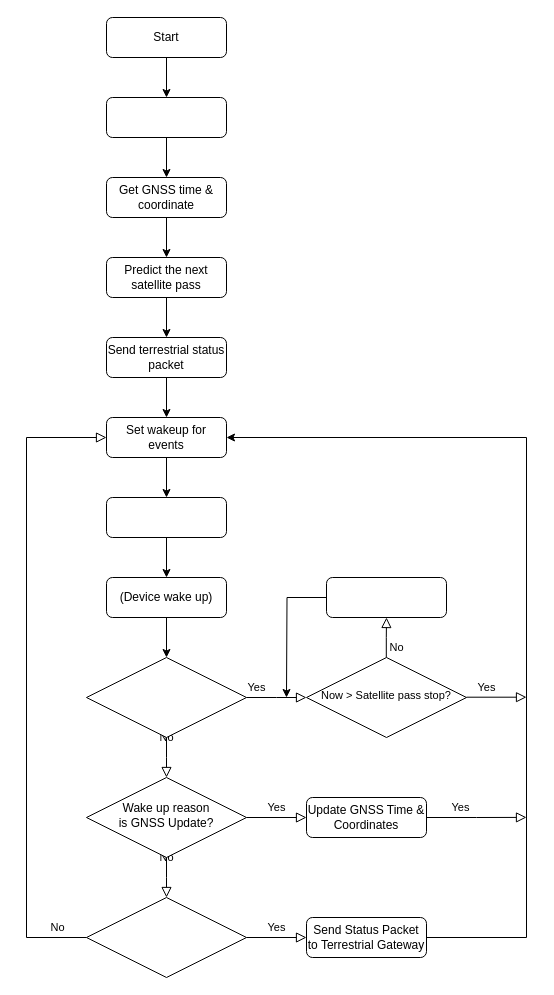
The diagram is 554 pixels wide and 995 high, and some of its shapes have lost their labels. Here are the shapes that lost their labels. From the top down, the box of each, then its label:
(106, 96, 226, 138): System Initialization
(106, 496, 226, 538): Set board sleep
(326, 576, 446, 618): Send Satellite packet
(86, 656, 246, 738): Wake up reason is Satellite pass?
(86, 896, 246, 978): Wake up reason is Send Status Packet?
